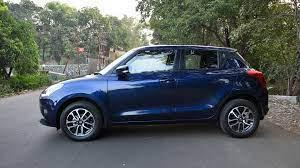Hatchback: (39, 42, 270, 142)
